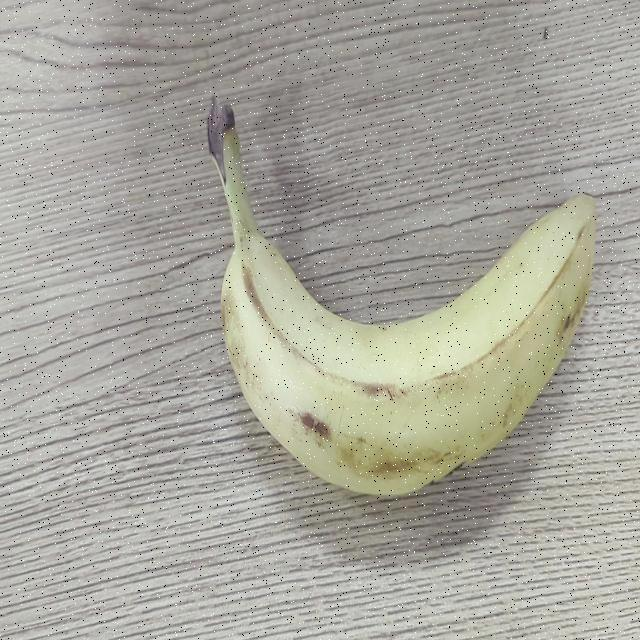Pisang: (132, 74, 624, 510)
